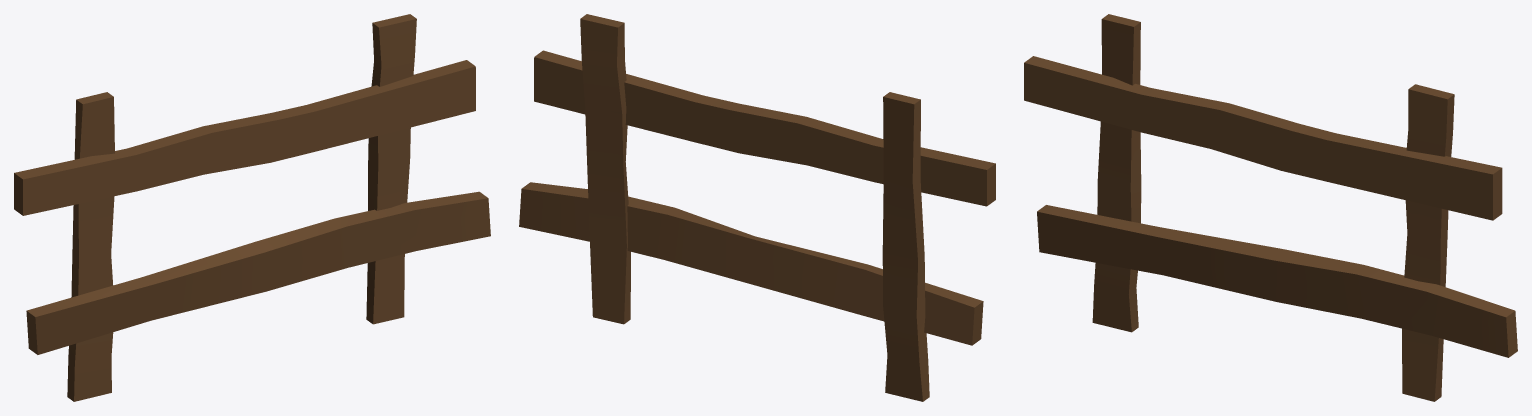
File: SM_fence_01.fbx
The picture shows the model from 3 angles, left to right: view 1: azimuth 30°, elevation 25°; view 2: azimuth 150°, elevation 25°; view 3: azimuth 330°, elevation 25°; orthographic projection. The views are drawn at different scales.
Visible parts, largest first — view 1: Cylinder052; view 2: Cylinder052; view 3: Cylinder052.
Part boxes in pixels (x1,y1,x2,y2): Cylinder052: [14, 14, 490, 401]; Cylinder052: [519, 14, 995, 401]; Cylinder052: [1024, 14, 1517, 401].
Bounding box in the file's own units: 67.75 × 41.51 × 4.62.
